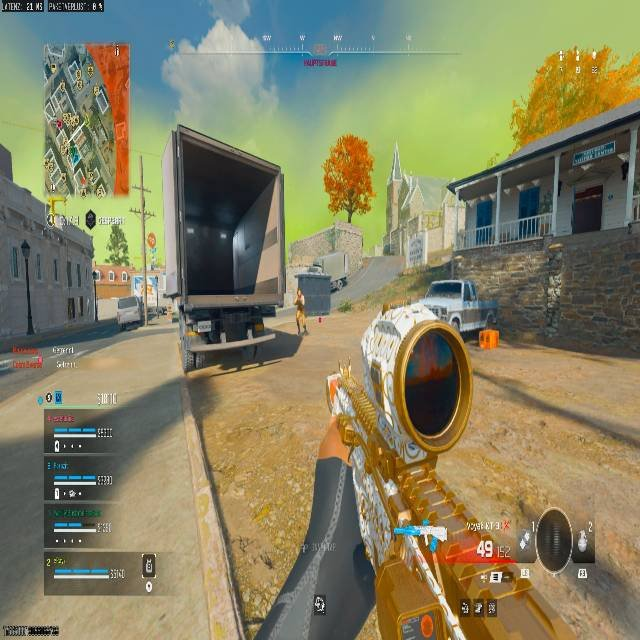head: (297, 288, 303, 296)
player: (294, 288, 308, 335), (330, 274, 347, 293)
